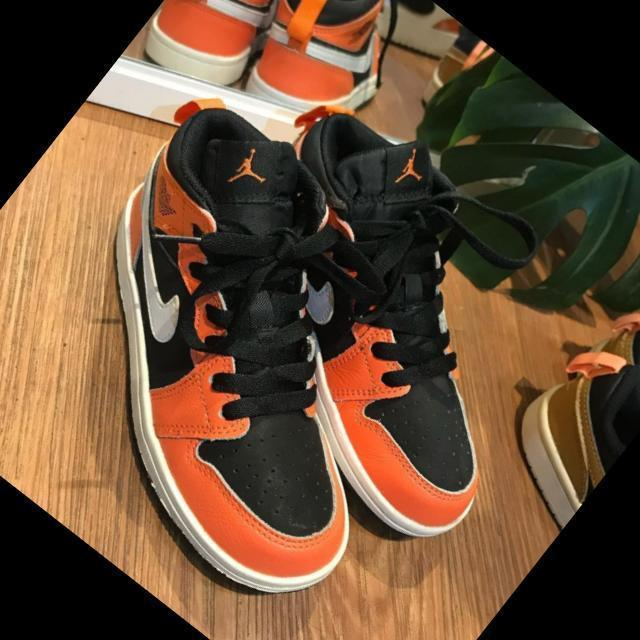nike fake jordan 1: (0, 75, 522, 632), (134, 83, 632, 572), (126, 0, 345, 119)
